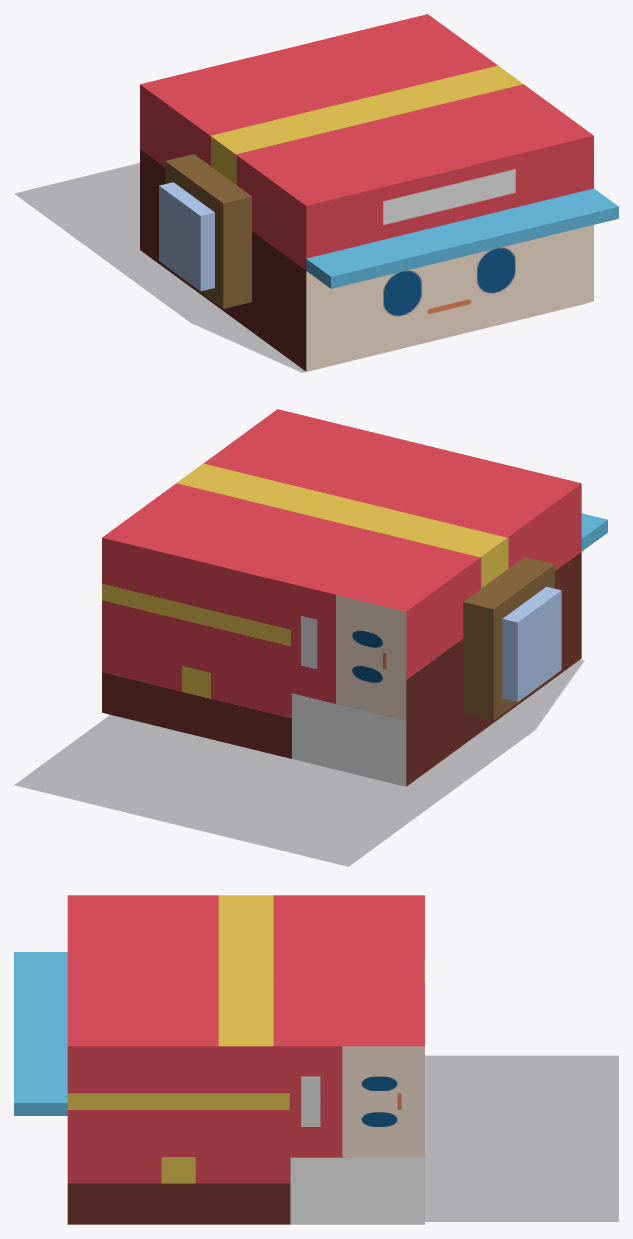
File: block_30.glb
3 views of the same model, one above another, from view 1: azimuth 30°, elevation 25°; view 2: azimuth 150°, elevation 25°; view 3: azimuth 270°, elevation 25° (orthographic). The views are drawn at different scales.
Visible parts, largest first — view 1: hitObj, Object3D, block; view 2: hitObj, block, Object3D; view 3: hitObj, block, Object3D.
Boxes of the visible parts, box(x1,y1,x2,y2) form: hitObj: box(140, 14, 593, 371); Object3D: box(159, 154, 618, 308); block: box(15, 163, 427, 372); hitObj: box(102, 409, 581, 786); block: box(15, 660, 583, 866); Object3D: box(463, 513, 607, 720); hitObj: box(67, 895, 424, 1224); block: box(425, 1056, 618, 1221); Object3D: box(14, 952, 67, 1115).
Bounding box in the file's own units: 11.5 × 5.53 × 16.93.
9 materials, 6 textured.
